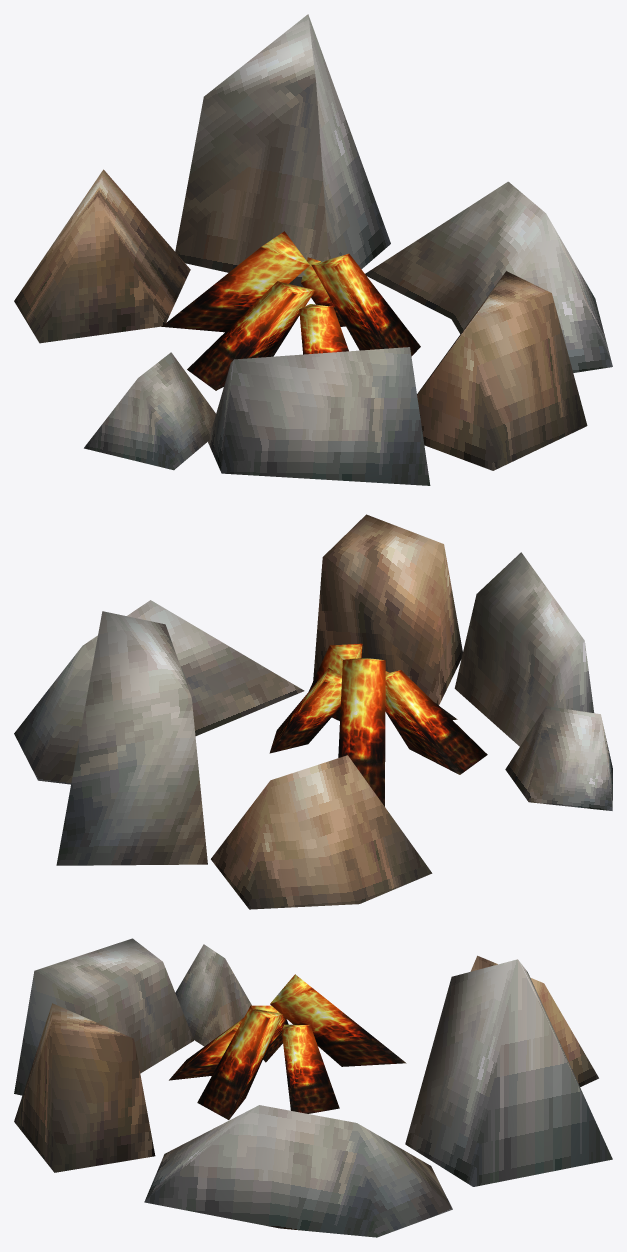
Rendered from campfire.fbx.
3 views of the same model, one above another, from view 1: azimuth 30°, elevation 25°; view 2: azimuth 150°, elevation 25°; view 3: azimuth 270°, elevation 25° (orthographic). The views are drawn at different scales.
Visible parts, largest first — view 1: elwynncampfire; view 2: elwynncampfire; view 3: elwynncampfire.
Part boxes in pixels (x1=…): elwynncampfire: x1=14, y1=14, x2=612, y2=485; elwynncampfire: x1=14, y1=514, x2=612, y2=909; elwynncampfire: x1=14, y1=938, x2=612, y2=1237.
Size of the model in its own units: 2.03 by 0.8109 by 2.14.
2 materials, 2 textured.
